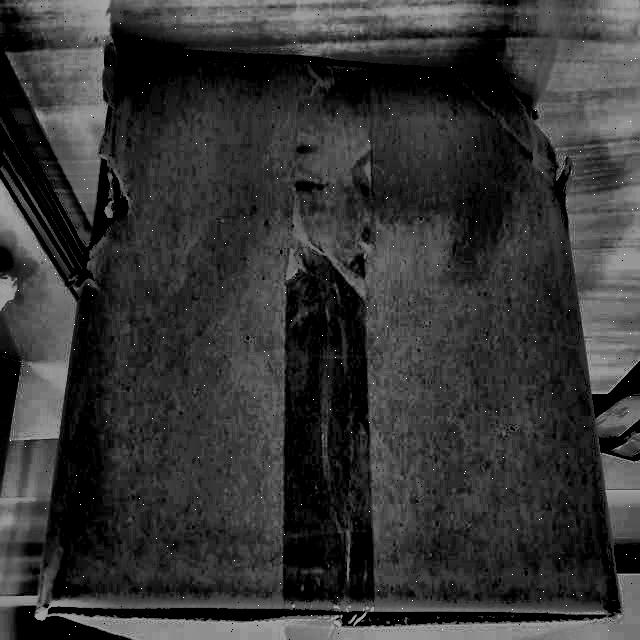box: (24, 34, 637, 640)
hole: (500, 77, 570, 215), (85, 146, 143, 269)
